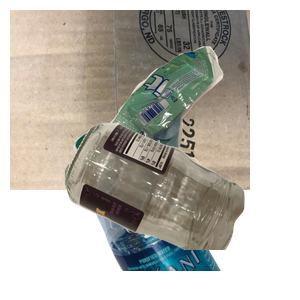cardboard: (10, 10, 250, 190)
glass: (62, 120, 300, 300)
plastic: (71, 120, 300, 300)
trash: (92, 44, 300, 211)
